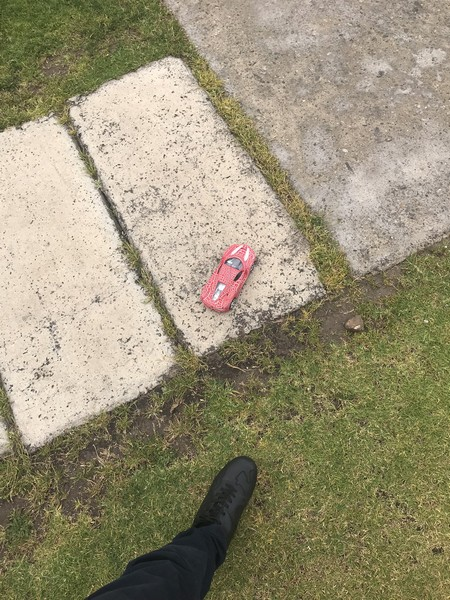RC: (199, 242, 257, 314)
